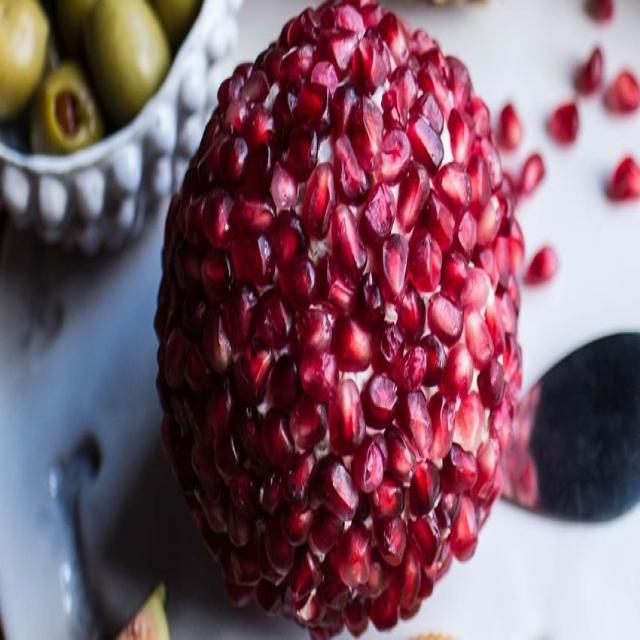Pomegranate: (155, 0, 524, 637)
